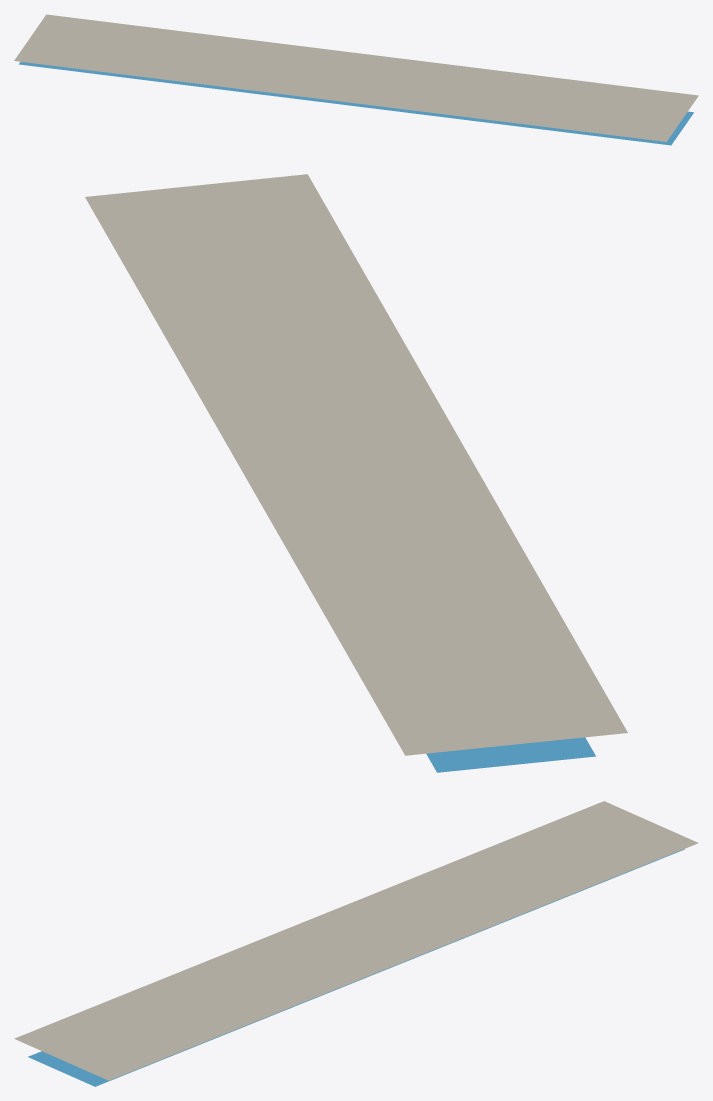
3 views of the same model, one above another, from view 1: azimuth 30°, elevation 25°; view 2: azimuth 150°, elevation 25°; view 3: azimuth 270°, elevation 25° (orthographic). The views are drawn at different scales.
Visible parts, largest first — view 1: estructura_terreno, estructura_agua; view 2: estructura_terreno, estructura_agua; view 3: estructura_terreno, estructura_agua.
Boxes of the visible parts, x1,y1,x2,y2 form: estructura_terreno: (14,14,698,141); estructura_agua: (19,61,693,145); estructura_terreno: (85,174,627,755); estructura_agua: (426,737,595,772); estructura_terreno: (14,801,698,1080); estructura_agua: (28,849,684,1086).
Size of the model in its own units: 20.23 by 0.41 by 20.94.
